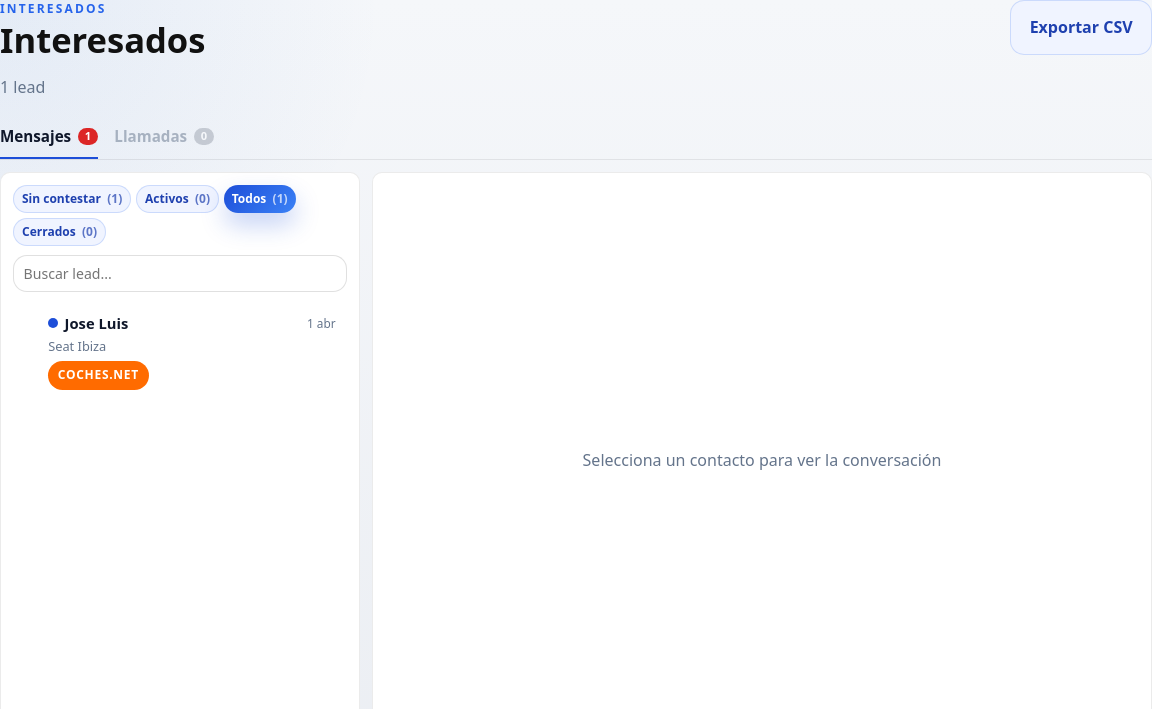
Test: LeadsList — composer (sugerir y enviar) › Sugerir fills the textarea with the API reply
The width and height of the screenshot is (1152, 709).
Click the text "Jose Luis" at (88, 323), box [48,312,128,334]
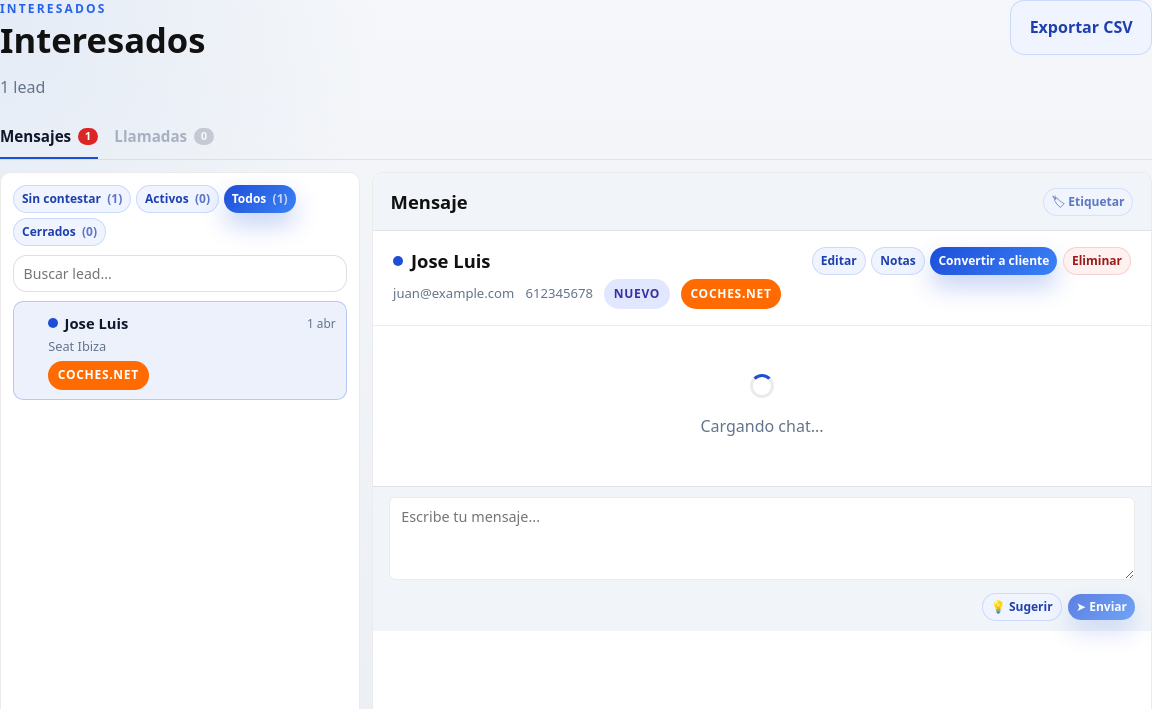
Click the button "💡 Sugerir" at (1022, 607), box [982,593,1062,621]
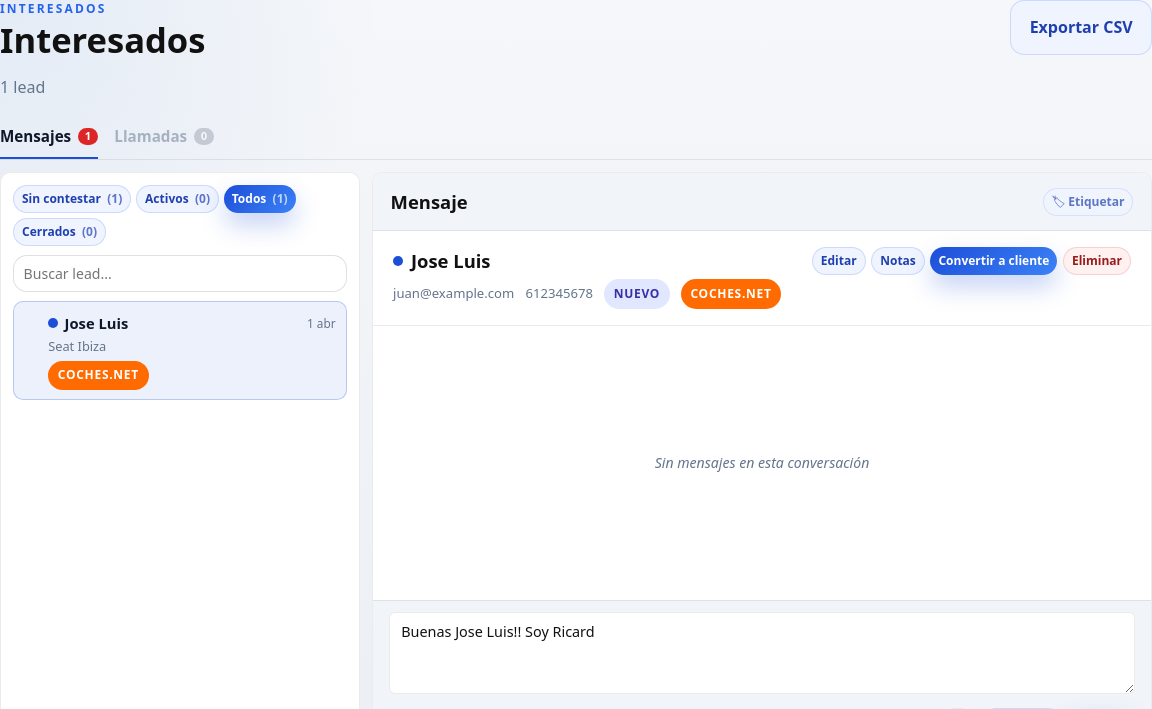
Check: the text box with placeholder "Escribe tu mensaje..." holds "Buenas Jose Luis!! Soy Ricard", box [389,612,1135,694]
